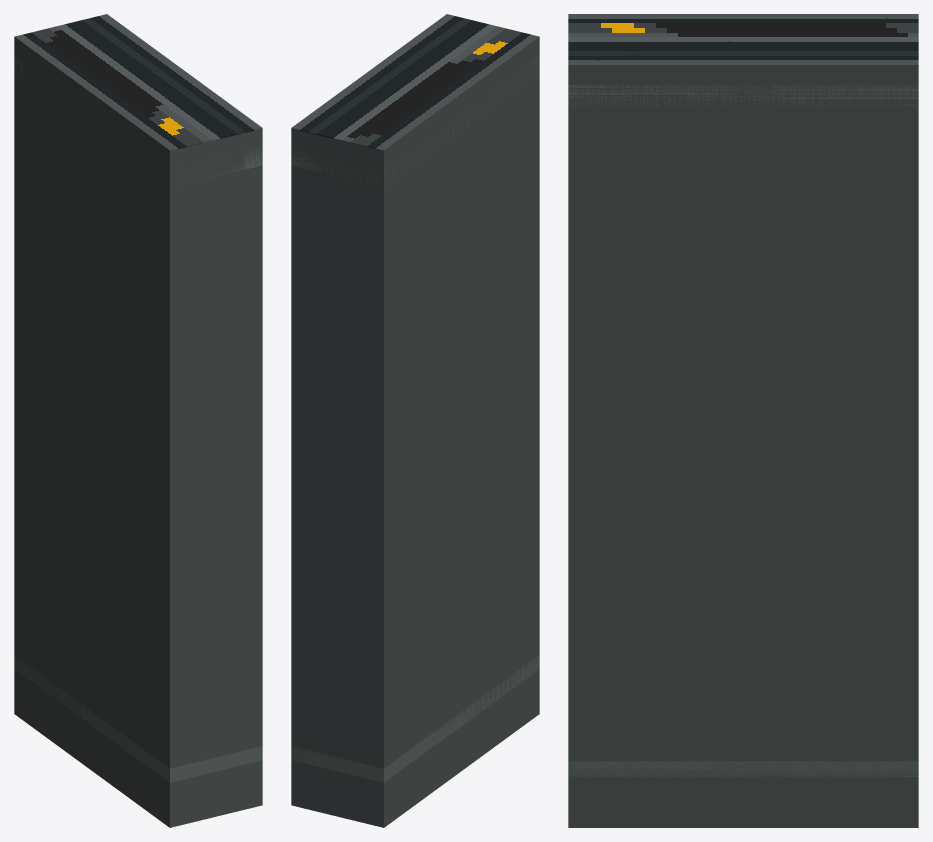
Rendered from CMU3DInteriorVehicleAPCBack2.glb.
3 renders of one model, left to right at view 1: azimuth 30°, elevation 25°; view 2: azimuth 150°, elevation 25°; view 3: azimuth 270°, elevation 25°, orthographic. The views are drawn at different scales.
Parts seen in each view (by area): view 1: cabin bulkhead, cabin bulkhead source finish, lower armor trim, upper armor trim; view 2: cabin bulkhead, cabin bulkhead source finish, lower armor trim, upper armor trim; view 3: cabin bulkhead, cabin bulkhead source finish, lower armor trim, upper armor trim.
Part boxes in pixels (bbox=[...]): cabin bulkhead: bbox=[14, 37, 262, 827]; cabin bulkhead source finish: bbox=[14, 14, 262, 151]; lower armor trim: bbox=[14, 655, 262, 782]; upper armor trim: bbox=[14, 55, 262, 186]; cabin bulkhead: bbox=[291, 37, 539, 827]; cabin bulkhead source finish: bbox=[291, 14, 539, 151]; lower armor trim: bbox=[291, 655, 539, 782]; upper armor trim: bbox=[291, 56, 539, 186]; cabin bulkhead: bbox=[568, 66, 918, 827]; cabin bulkhead source finish: bbox=[568, 14, 918, 65]; lower armor trim: bbox=[568, 761, 918, 777]; upper armor trim: bbox=[568, 85, 918, 106].
Size of the model in its own units: 0.3438 by 2.4 by 1.
Materials: 4 (1 with a texture image).
